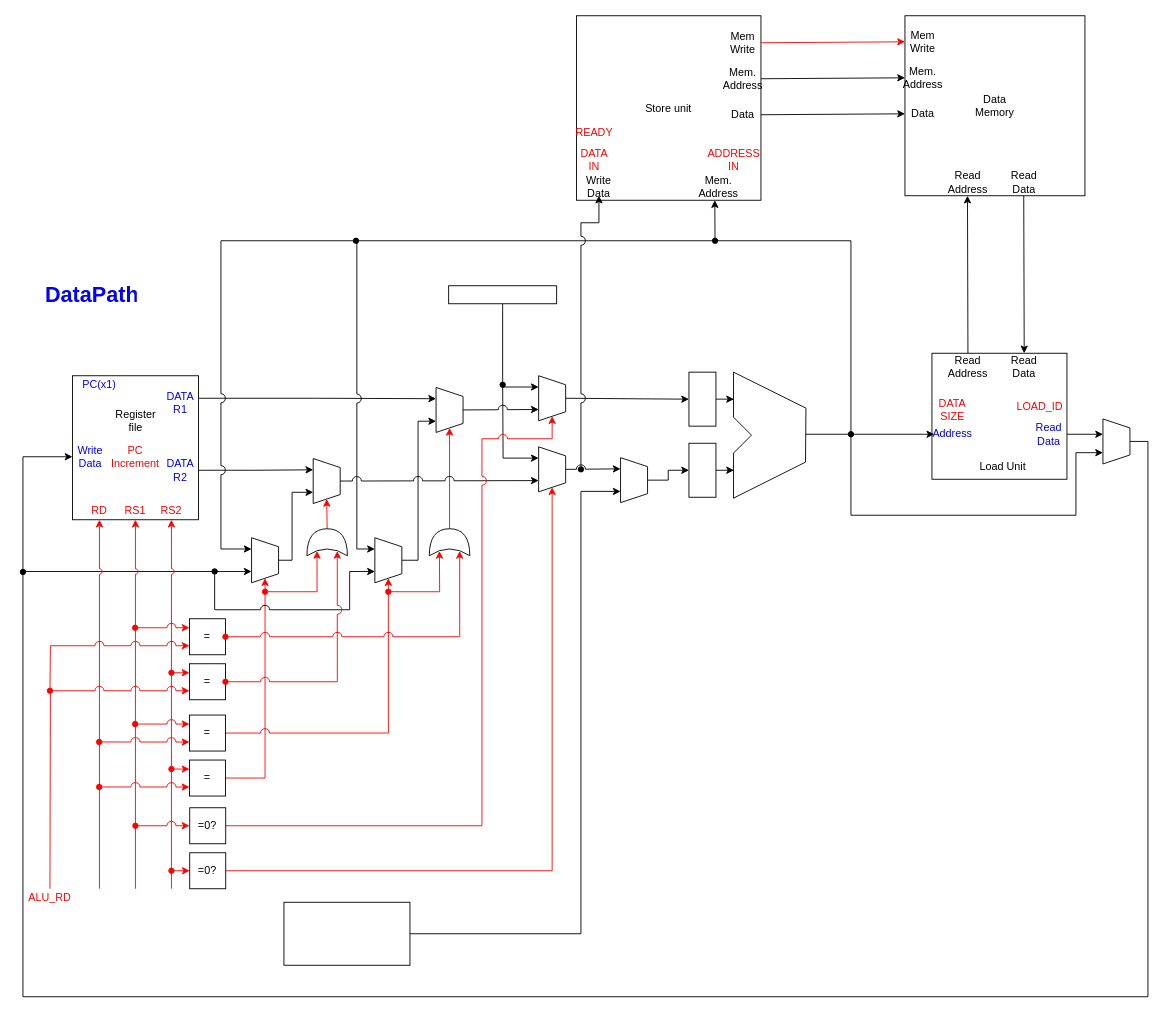
Some shapes in this 1171 by 1020 pixel diagram are drawn without their labels. Each missing label, with the centre of its shape:
Immediate Generation: the point at 346,933
x0: the point at 502,294
